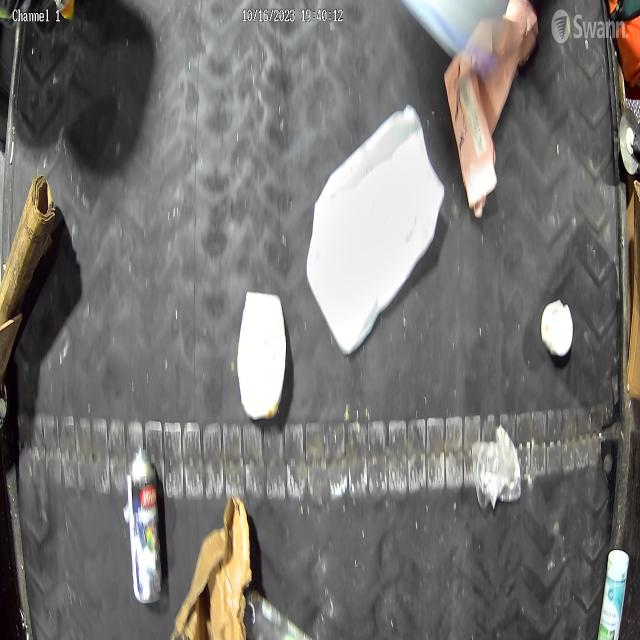can: (126, 444, 164, 605)
milk_jug: (305, 103, 446, 359)
